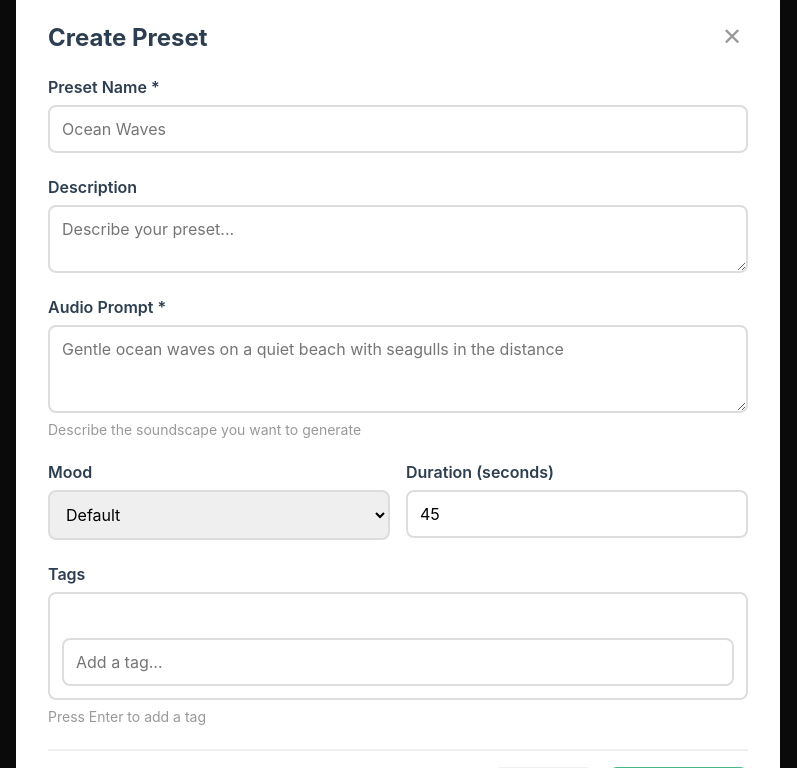
PresetEditor › shows error when prompt is empty on save
This screenshot has width=797, height=768.
Type "Test Name" into the field with id "name" at (398, 129), box [48,105,748,153]
(page scrolled)
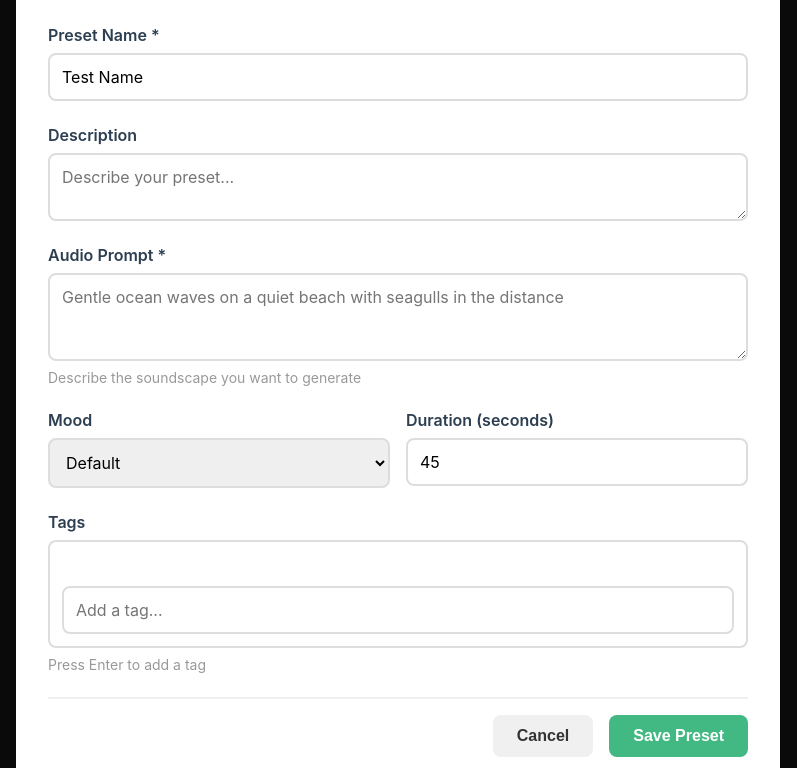
Submit the form
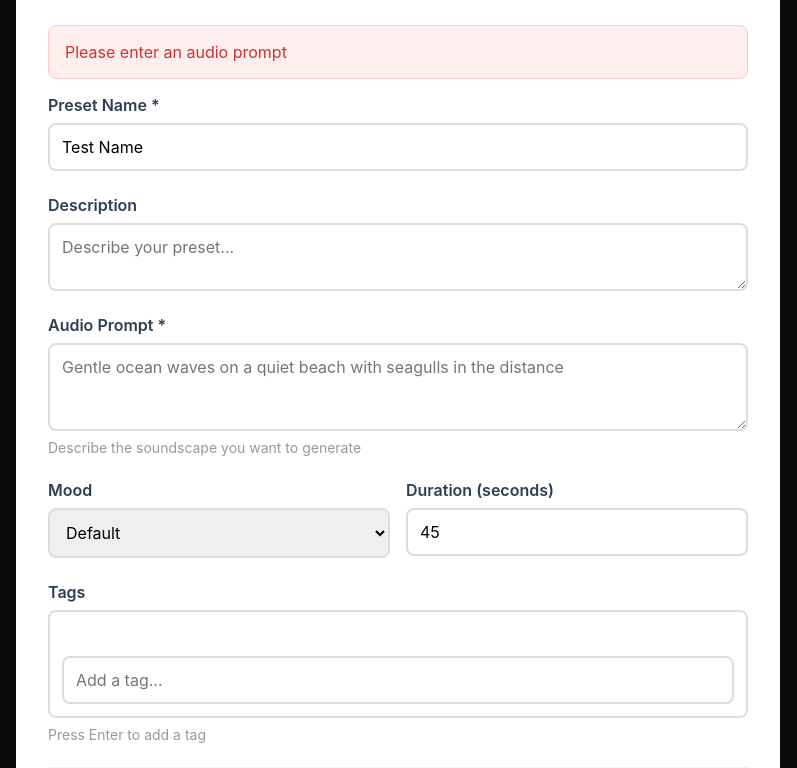
Check: the text "Please enter an audio prompt" is shown, box [48,25,748,79]
